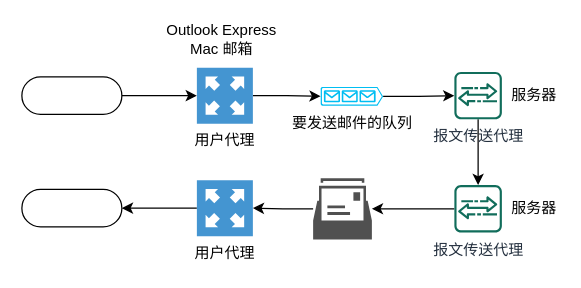
The diagram is 581 pixels wide and 288 high, and some of its shapes have lost their labels. Each missing label, with the centre of its shape:
发送方用户: pixel 71 95
接收方用户: pixel 71 207
用户邮箱: pixel 341 208
